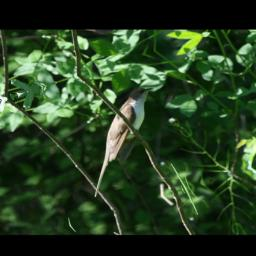Cuckoo: (50, 83, 194, 199)
